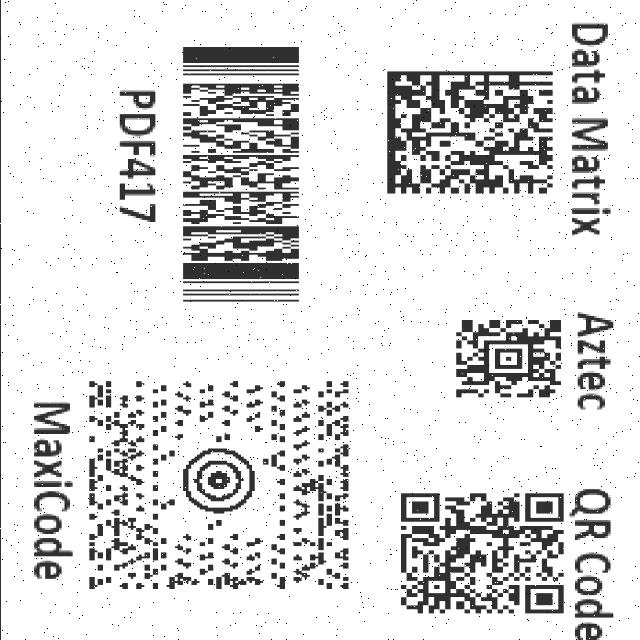datamatrix: (372, 65, 563, 202)
